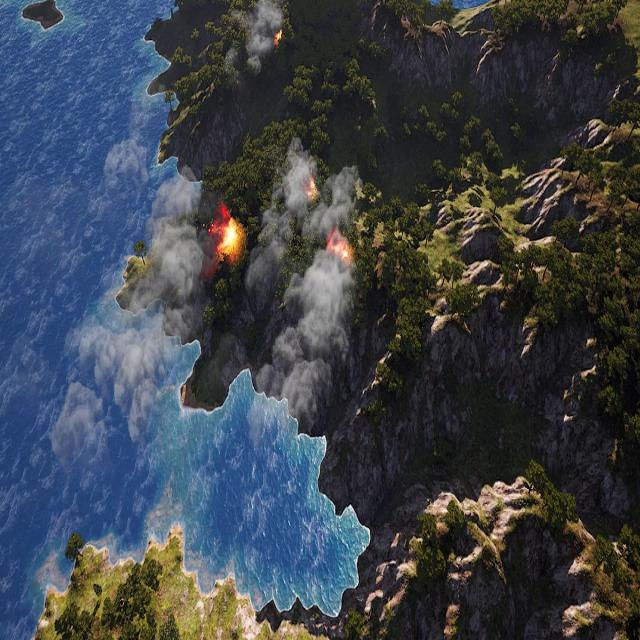fire: (214, 212, 242, 262), (327, 233, 354, 267), (306, 177, 318, 201), (275, 30, 284, 48)
smoke: (49, 94, 212, 482), (242, 141, 358, 439), (224, 0, 282, 71)
